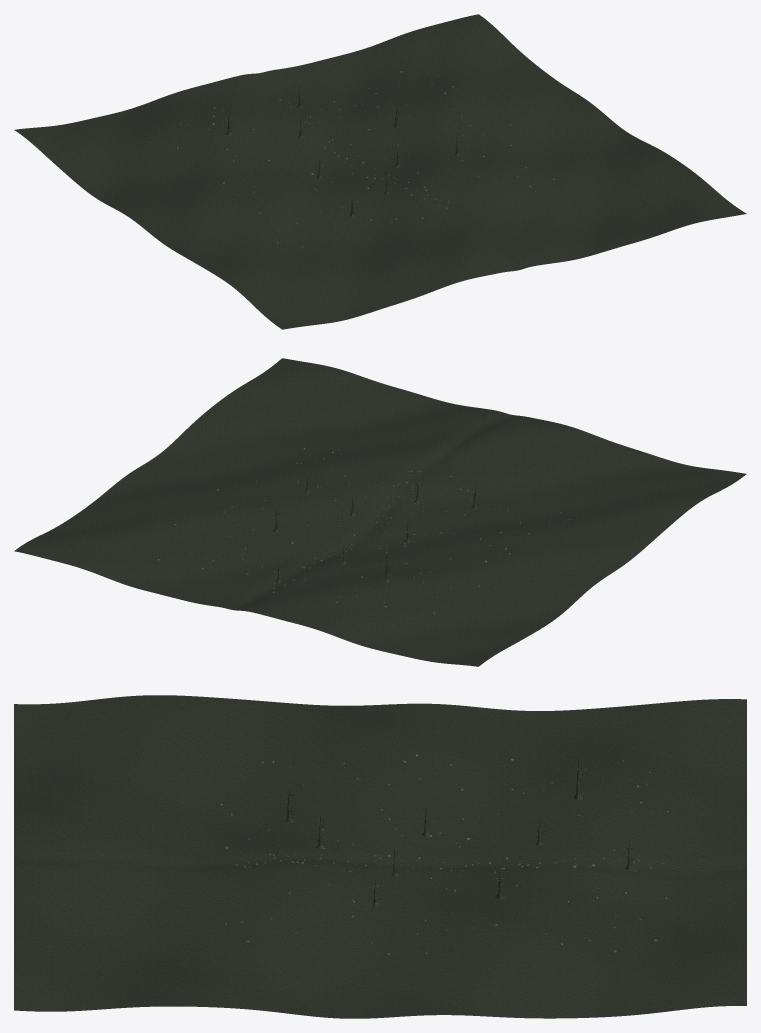
File: moor.glb
The picture shows the model from 3 angles, top to bottom: view 1: azimuth 30°, elevation 25°; view 2: azimuth 150°, elevation 25°; view 3: azimuth 270°, elevation 25°; orthographic projection. The views are drawn at different scales.
Visible parts, largest first — view 1: Moor_Environment; view 2: Moor_Environment; view 3: Moor_Environment.
Boxes of the visible parts, <box> form: Moor_Environment: <box>14,14,746,329</box>; Moor_Environment: <box>14,358,746,666</box>; Moor_Environment: <box>14,695,746,1018</box>.
Size of the model in its own units: 188 by 15.95 by 188.
3 materials, 3 textured.
